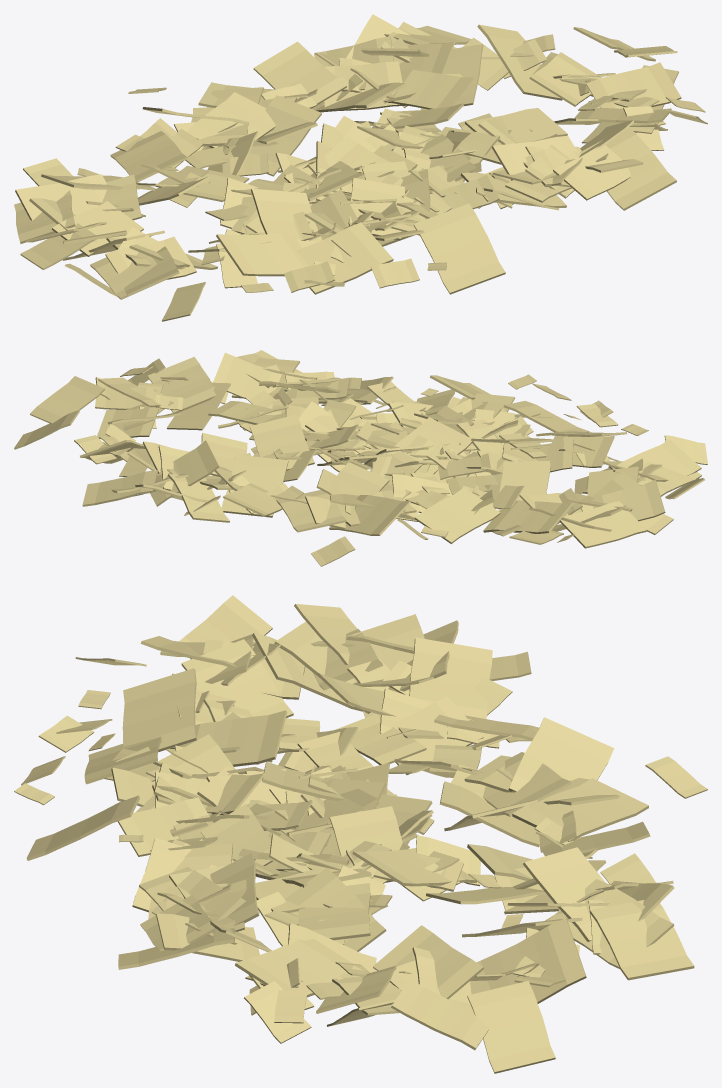
File: EN_PaperScattered_01.fbx
3 renders of one model, top to bottom at view 1: azimuth 30°, elevation 25°; view 2: azimuth 150°, elevation 25°; view 3: azimuth 270°, elevation 25°, orthographic. The views are drawn at different scales.
Visible parts, largest first — view 1: EN_PaperScattered_01; view 2: EN_PaperScattered_01; view 3: EN_PaperScattered_01.
Part boxes in pixels (box(x1,y1,x2,y2)): EN_PaperScattered_01: box(14, 14, 707, 321); EN_PaperScattered_01: box(14, 350, 707, 566); EN_PaperScattered_01: box(14, 595, 707, 1073).
Size of the model in its own units: 754 by 73.28 by 519.
